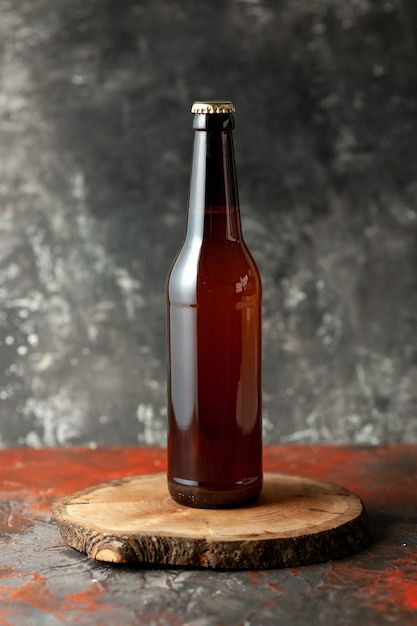alcohol: (167, 100, 267, 508)
